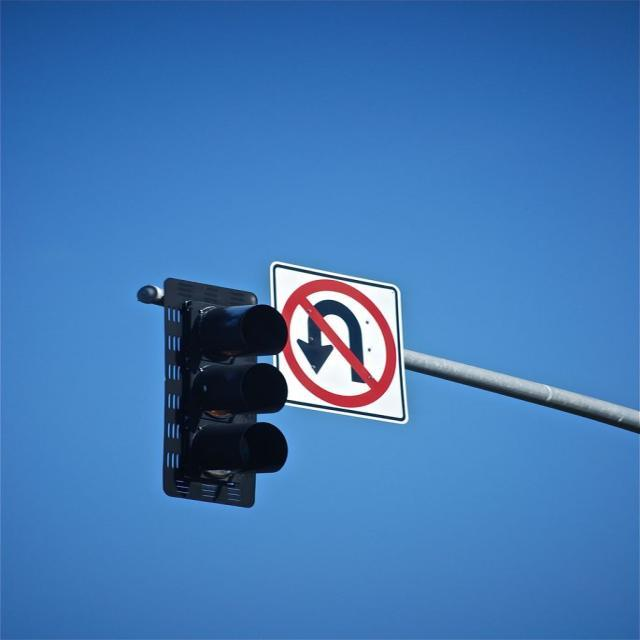road_sign: (281, 268, 409, 421)
traffic light: (148, 266, 288, 503)
